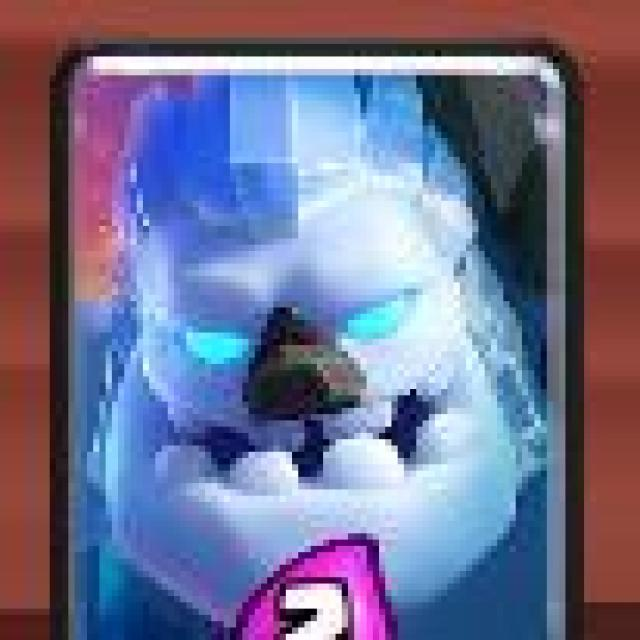Ice_Golem: (47, 43, 579, 640)
